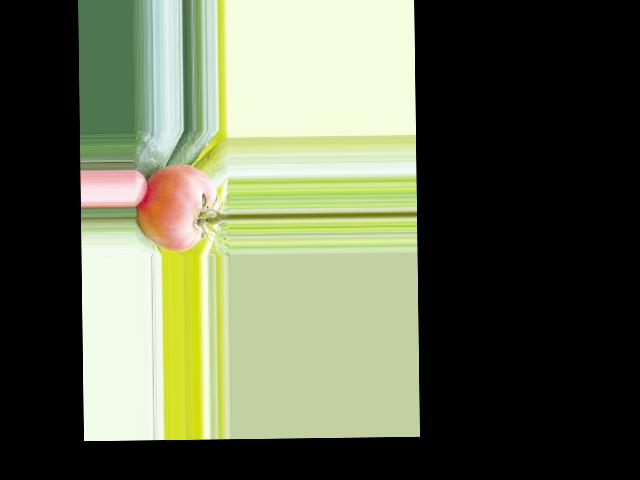tomato: (135, 164, 217, 252)
